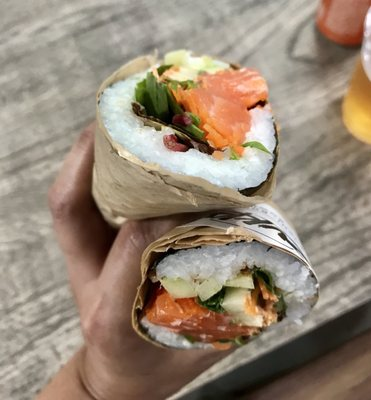soup: (92, 48, 277, 225)
